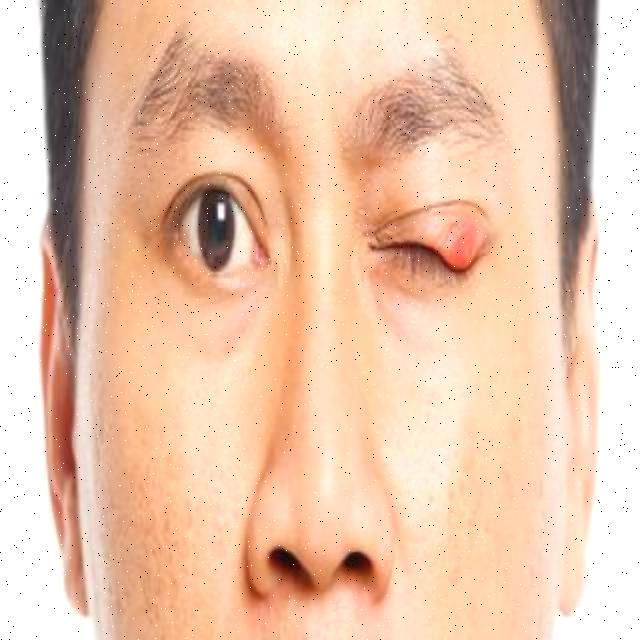Stye: (396, 210, 532, 290)
